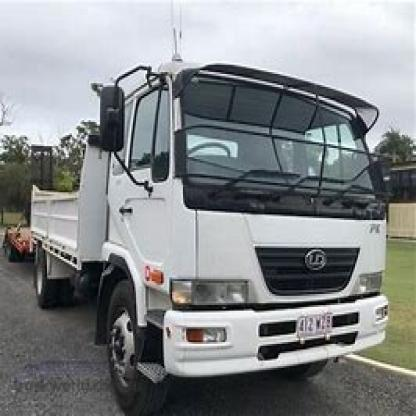dump_truck: (10, 54, 400, 414)
